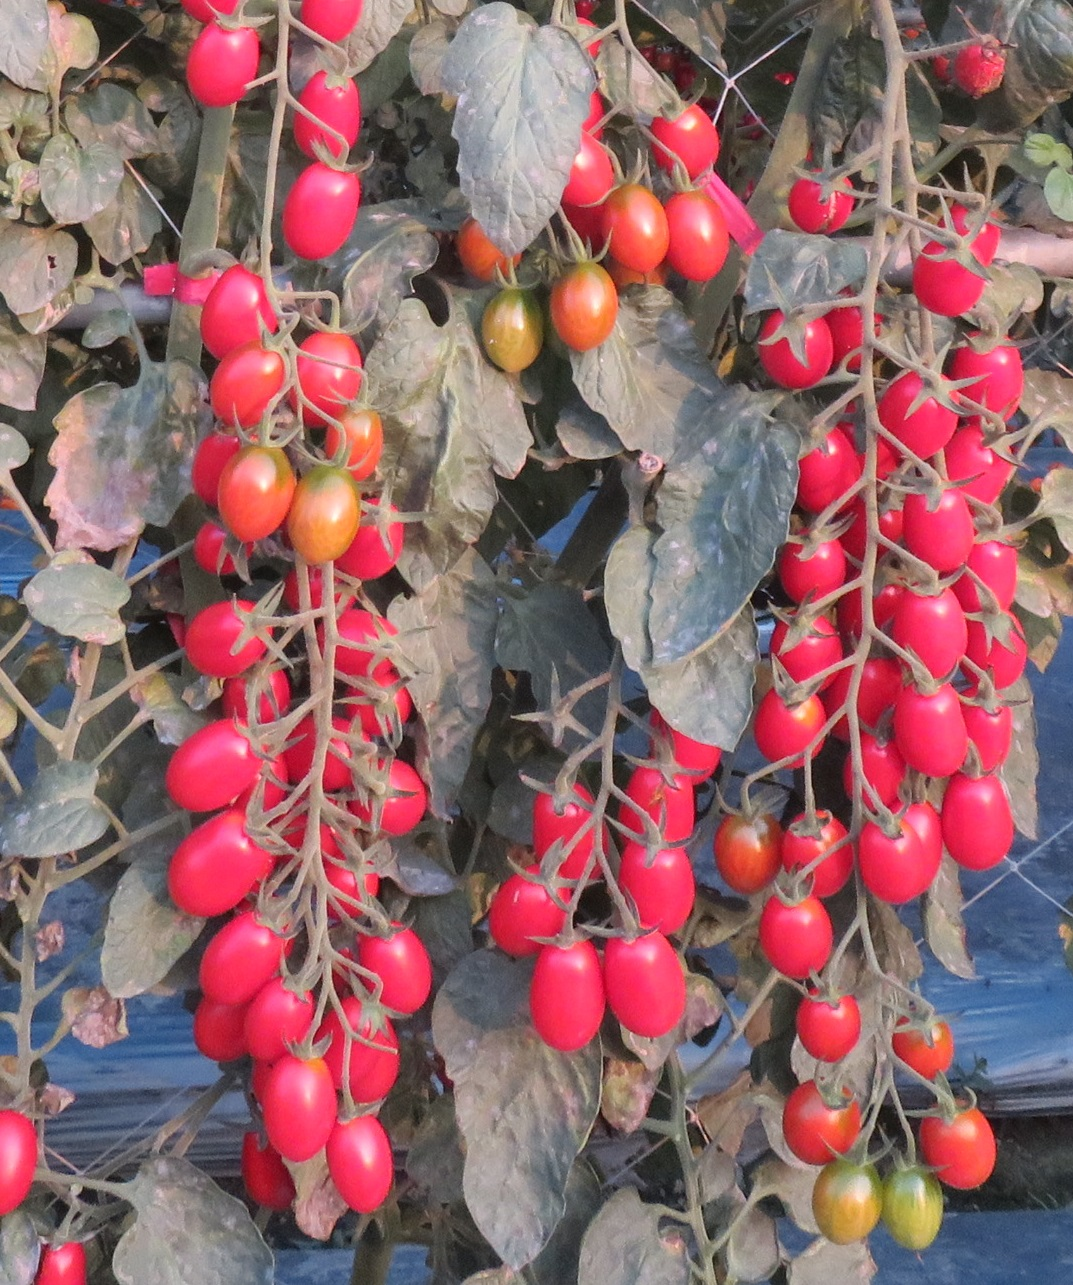green: (883, 1156, 944, 1265), (814, 1164, 887, 1242)
orange: (215, 444, 291, 556), (284, 460, 363, 568), (779, 1080, 871, 1168), (926, 1104, 1006, 1190), (664, 185, 736, 280), (543, 265, 616, 354), (606, 189, 672, 274), (715, 818, 780, 900), (894, 1014, 964, 1074)
red: (163, 814, 287, 918), (914, 193, 1000, 322), (606, 917, 688, 1044), (258, 1046, 340, 1173), (162, 721, 272, 814), (198, 902, 287, 1013), (532, 934, 607, 1054), (202, 264, 284, 367), (612, 832, 700, 925), (871, 374, 960, 464), (282, 169, 367, 261), (348, 920, 432, 1013), (854, 808, 932, 908), (938, 773, 1012, 878), (340, 1113, 411, 1221), (186, 597, 275, 681), (486, 872, 582, 948), (763, 889, 839, 984), (295, 326, 370, 421), (894, 588, 967, 684), (947, 332, 1031, 414), (210, 346, 288, 434), (895, 686, 967, 781), (758, 675, 831, 770), (184, 21, 258, 108), (620, 770, 708, 842), (906, 483, 972, 581), (790, 813, 858, 900), (240, 980, 315, 1058), (802, 418, 863, 512), (296, 76, 359, 164), (764, 310, 836, 384), (660, 96, 730, 172), (539, 790, 600, 877), (963, 601, 1023, 688), (787, 518, 850, 600), (782, 174, 856, 237), (792, 1002, 866, 1065), (770, 605, 831, 675), (964, 536, 1020, 609), (971, 697, 1019, 768)
